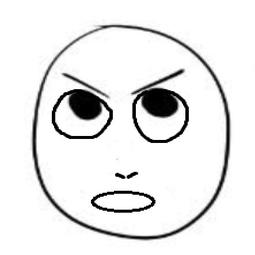eye: (126, 86, 195, 148), (48, 86, 113, 143)
frowning_eyebrow: (64, 70, 112, 101), (134, 67, 185, 95)
nose: (108, 164, 147, 181)
open_mouth: (89, 190, 161, 217)
